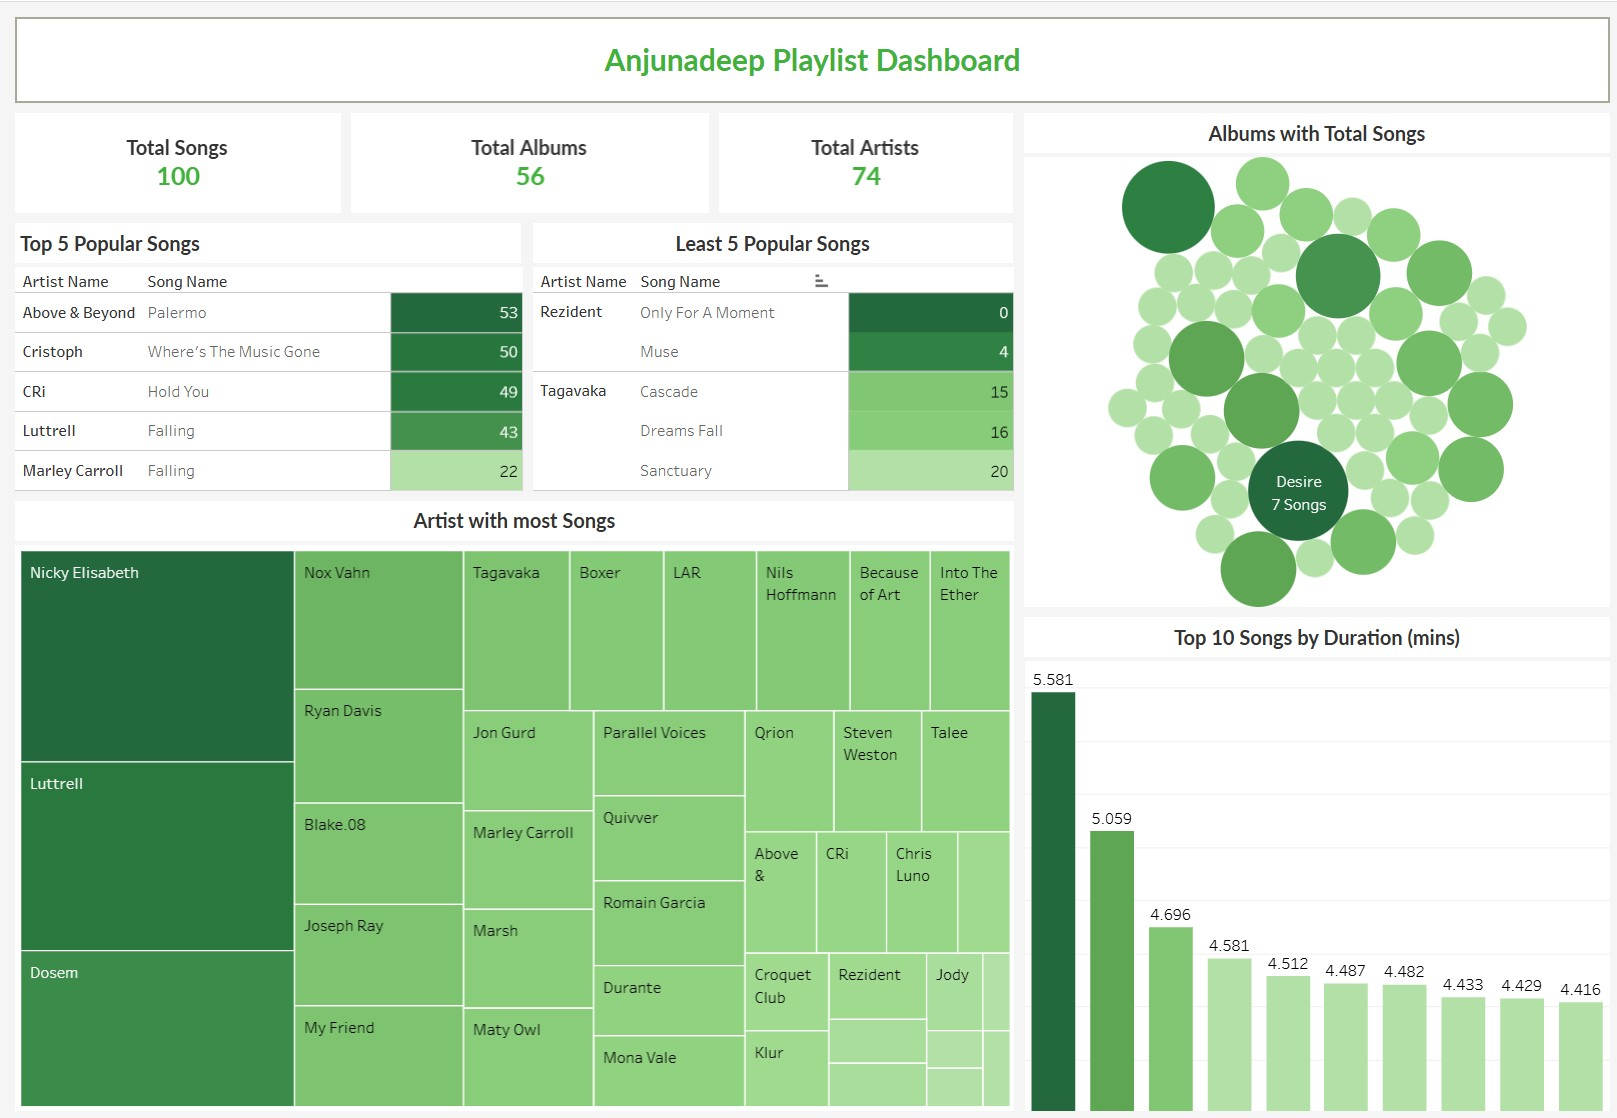

Layout of this report page (visuals, bound fields, positions):
{"tool":"tableau","page":{"name":"Dashboard","canvas":[1300,900],"ordinal":0},"visuals":[{"type":"title","box":[8,8,1284,77]},{"type":"worksheet","title":"Total Songs","mark":"Automatic","box":[8,85,269.1,88.4]},{"type":"worksheet","title":"Total Albums","mark":"Automatic","box":[277.1,85,294.2,88.4]},{"type":"worksheet","title":"Total Artists","mark":"Automatic","box":[571.3,85,244,88.4]},{"type":"worksheet","title":"Albums with Total Songs","mark":"Circle","box":[815.3,85,476.7,403.5]},{"type":"worksheet","title":"Most Popular Songs","mark":"Square","rows":["artist_name","song_name"],"box":[8,173.4,414,221.9]},{"type":"worksheet","title":"Least Popular Songs","mark":"Square","rows":["artist_name","song_name"],"box":[422,173.4,393.4,221.9]},{"type":"worksheet","title":"Artist with most Songs","mark":"Automatic","box":[8,395.3,807.3,496.7]},{"type":"worksheet","title":"Songs by Duration","mark":"Automatic","rows":["Calculation_2011138713697898496"],"cols":["song_name"],"box":[815.3,488.5,476.7,403.5]}]}

Visuals, with their boxes in screenshot pixels (x1, y1, x2, y2), scaled from the page's 1300x900 canvas onto the 1617x1118 screenshot:
title: <region>10, 10, 1607, 106</region>
"Total Songs" worksheet: <region>10, 106, 345, 215</region>
"Total Albums" worksheet: <region>345, 106, 711, 215</region>
"Total Artists" worksheet: <region>711, 106, 1014, 215</region>
"Albums with Total Songs" worksheet (Circle marks): <region>1014, 106, 1607, 607</region>
"Most Popular Songs" worksheet (Square marks): <region>10, 215, 525, 491</region>
"Least Popular Songs" worksheet (Square marks): <region>525, 215, 1014, 491</region>
"Artist with most Songs" worksheet: <region>10, 491, 1014, 1108</region>
"Songs by Duration" worksheet: <region>1014, 607, 1607, 1108</region>
